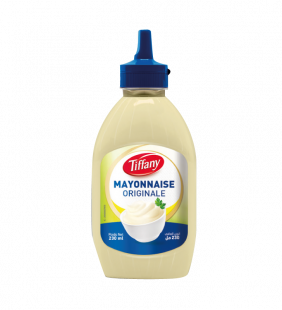Promotion: (86, 25, 202, 284)
